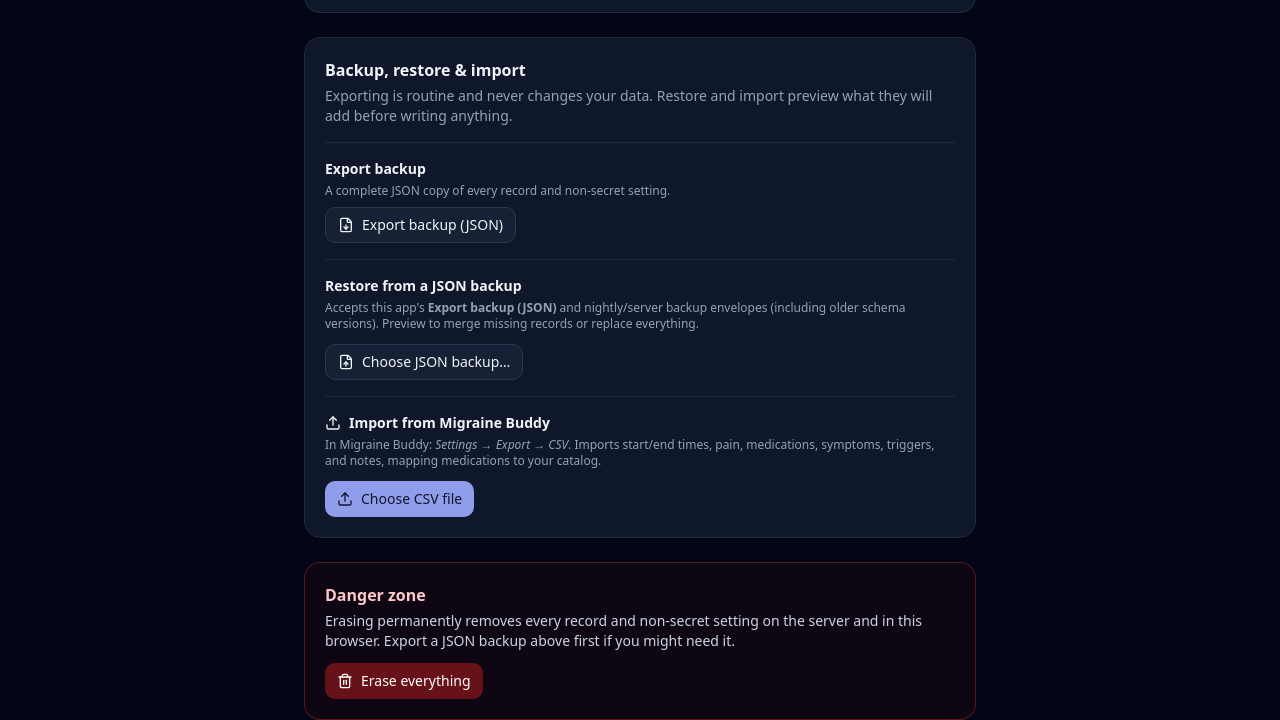
Test: Settings erase-everything copy › names the full record scope and both the server and this browser in server mode
(page scrolled)
Click the button "Erase everything" at [404, 681], box [325,663,482,699]
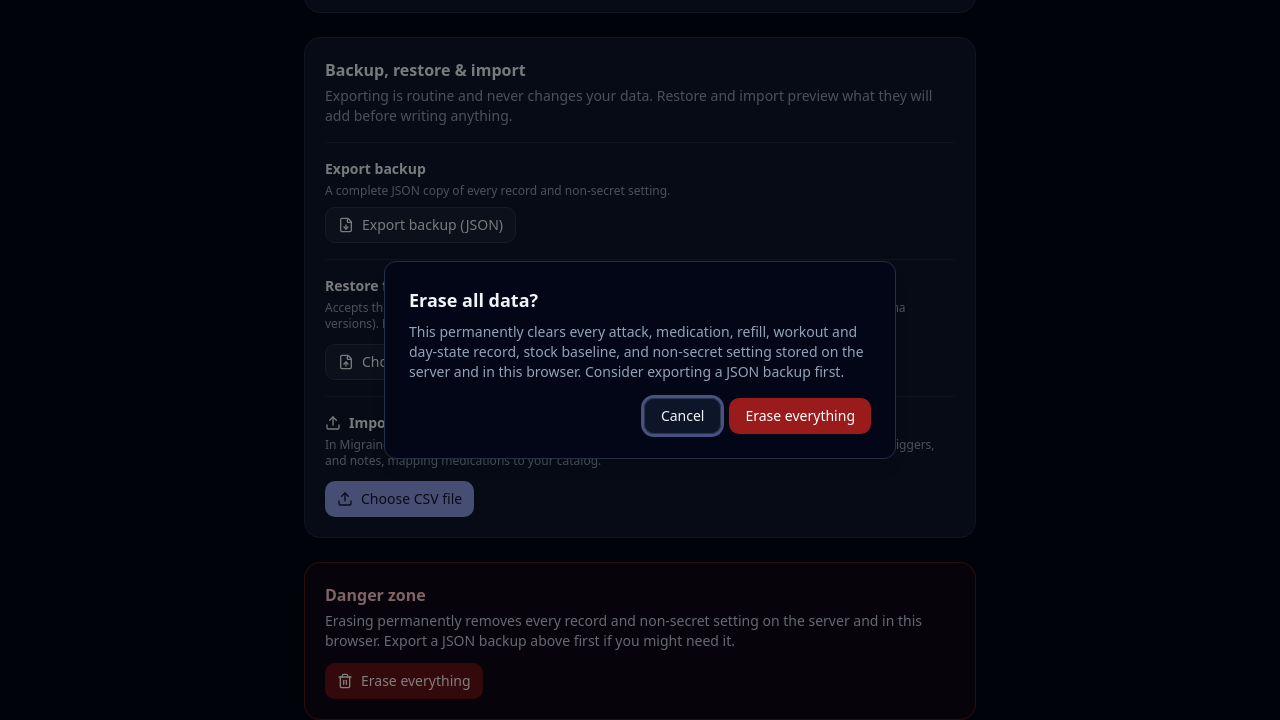
Expected: the heading "Erase all data?" is shown, [409,288,538,312]
Expected: the text "every attack, medication, refill, workout and day-state record, stock baseline, and non-secret setting" is shown, [409,322,864,381]
Expected: the text "stored on the server and in this browser" is shown, [409,322,864,381]
